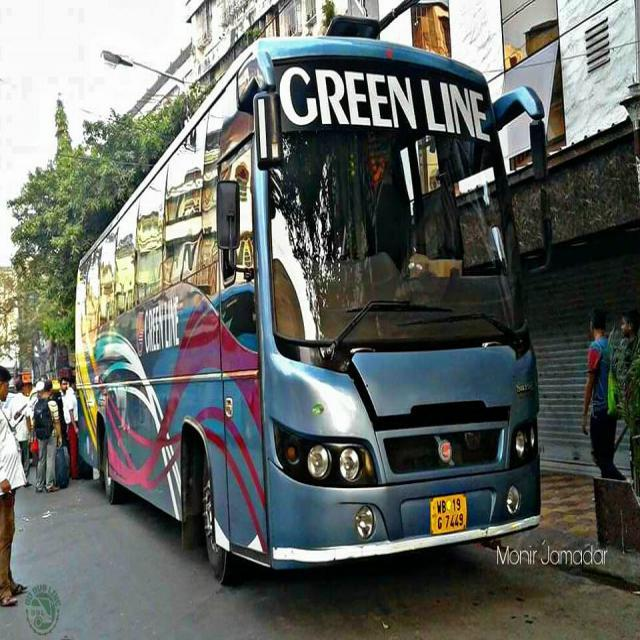Bus: (75, 33, 549, 593)
